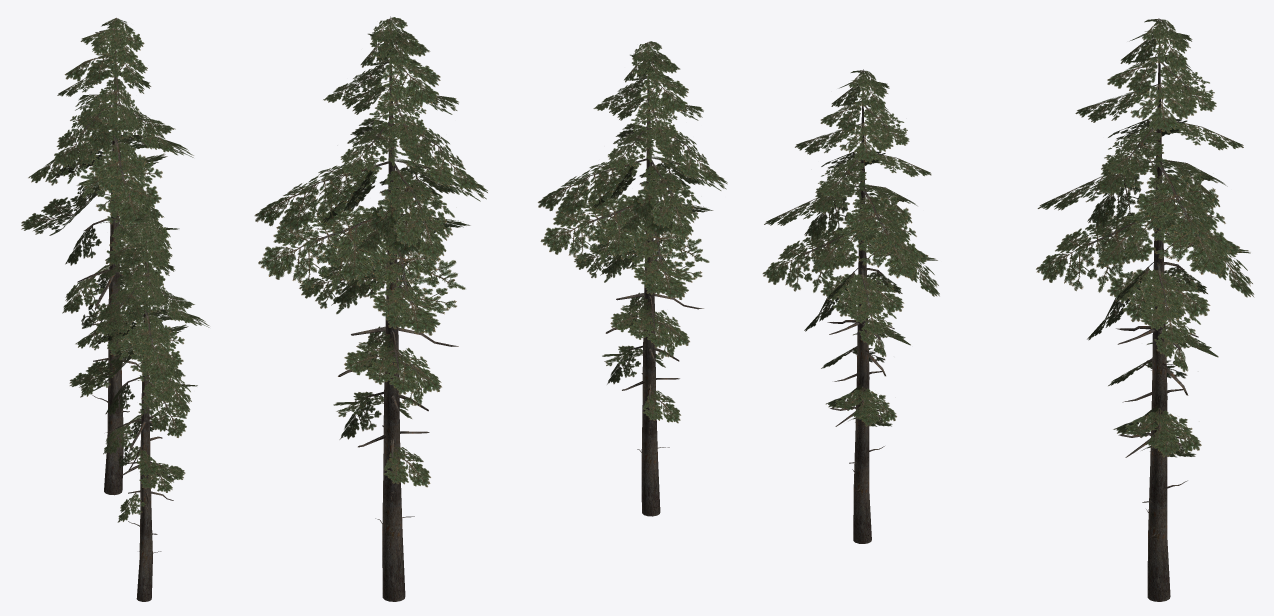
3 views of the same model, side by side, from view 1: azimuth 30°, elevation 25°; view 2: azimuth 150°, elevation 25°; view 3: azimuth 270°, elevation 25° (orthographic). The views are drawn at different scales.
Visible parts, largest first — view 1: tree; view 2: tree; view 3: tree.
Boxes of the visible parts, x1,y1,x2,y2 form: tree: [21, 17, 209, 601]; tree: [254, 16, 727, 601]; tree: [762, 18, 1254, 601].
Bounding box in the file's own units: 24.03 × 45.46 × 35.4.
Materials: 2 (2 with a texture image).
